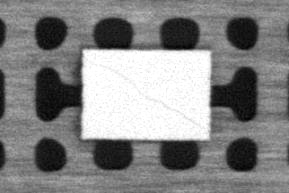DIE_CRACK: (92, 59, 205, 127)
